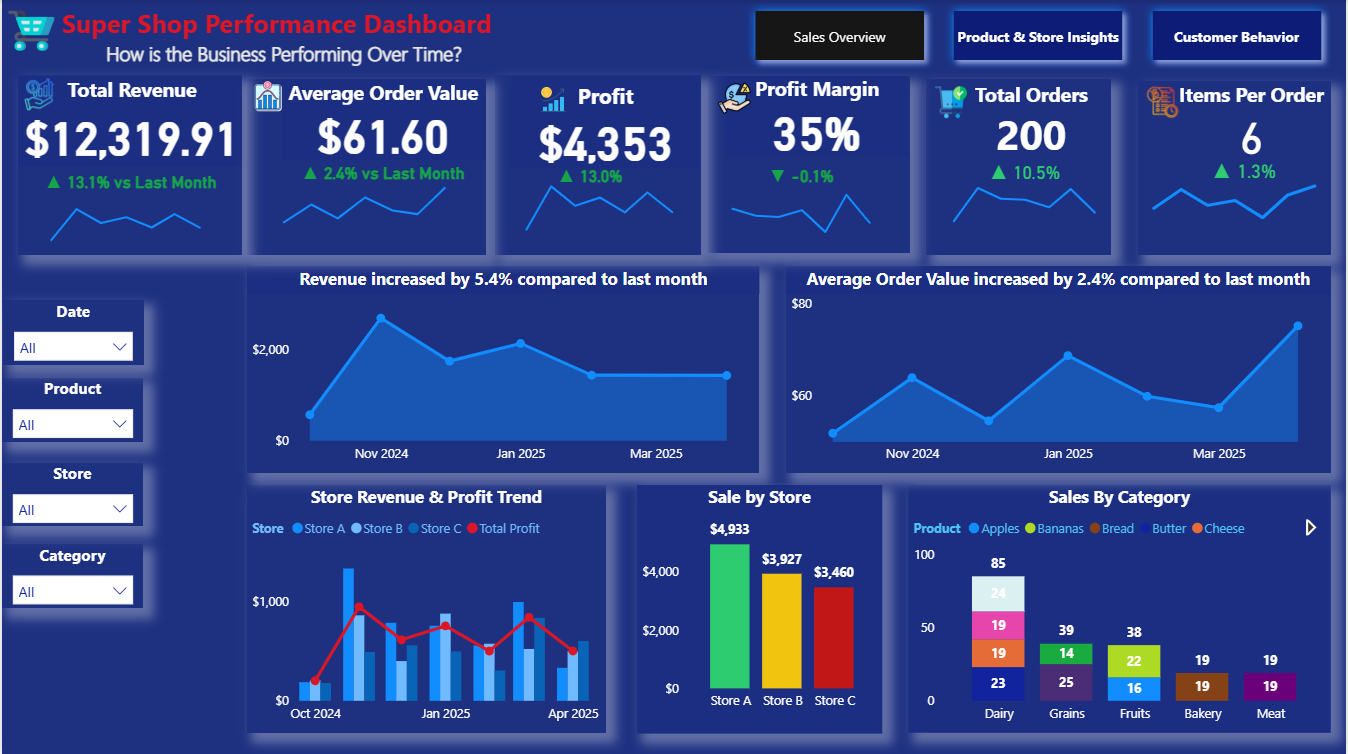

What the dashboard file says about the page in this screenshot:
{"tool":"powerbi","page":{"name":" Sales Overview","canvas":[1280,720],"ordinal":0},"visuals":[{"type":"textbox","title":"Super Shop Performance Dashboard","box":[1.2,1.2,534.5,67.9],"z":0},{"type":"lineChart","fields":{"Y":["Sum(Sheet1.Total Sale)"],"Category":["Date Table.Year-Month"]},"box":[233.3,253.6,488.1,196.4],"z":1000},{"type":"columnChart","title":"Sales By Category","fields":{"Category":["Sheet1.Category"],"Y":["CountNonNull(Sheet1.Product)"],"Series":["Sheet1.Product"]},"box":[863.1,461.9,402.4,235.7],"z":2000},{"type":"slicer","title":"Store","fields":{"Values":["Sales.Store"]},"box":[0,440.5,134.5,60.7],"z":3000},{"type":"slicer","title":"Product","fields":{"Values":["Sales.Product"]},"box":[0,359.5,134.5,61.9],"z":4000},{"type":"slicer","title":"Date","fields":{"Values":["Sales.Date"]},"box":[1.2,285.7,133.3,61.9],"z":5000},{"type":"slicer","title":"Category","fields":{"Values":["Sales.Category"]},"box":[0,517.9,134.5,61.9],"z":6000},{"type":"card","title":"Total Revenue","fields":{"Values":["Sales.Total Revenue"]},"box":[15.5,72.6,216.7,85.7],"z":7000},{"type":"card","fields":{"Values":["Sales.Revenue Growth Display"]},"box":[1.3,161.2,243.2,26.9],"z":8000},{"type":"lineChart","fields":{"Category":["Date Table.Year-Month"],"Y":["Sales.Total Revenue"]},"box":[32.1,181,171.4,61.9],"z":9000},{"type":"card","title":"Average Order Value","fields":{"Values":["Sales.Avg Order Value"]},"box":[265.5,75,195.2,77.4],"z":10000},{"type":"card","fields":{"Values":["Sales.AOV Growth Display"]},"box":[265.5,146.4,195.2,42.9],"z":11000},{"type":"lineChart","fields":{"Y":["Sales.Avg Order Value"],"Category":["Date Table.Year-Month"]},"box":[253.6,158.3,183.3,61.9],"z":12000},{"type":"card","title":"Total Orders","fields":{"Values":["Sales.Total Orders"]},"box":[888.1,77.4,184.5,76.2],"z":13000},{"type":"shape","box":[15.5,71.4,213.1,171.4],"z":14000},{"type":"card","fields":{"Values":["Sales.Orders Indicator"]},"box":[891.7,146.4,164.3,36.9],"z":15000},{"type":"lineChart","fields":{"Y":["Sales.Total Orders"],"Category":["Date Table.Year-Month"]},"box":[891.7,157.1,164.3,60.7],"z":16000},{"type":"shape","box":[879.8,75,176.2,167.9],"z":17000},{"type":"card","title":"Items Per Order","fields":{"Values":["Sales.Items per Order"]},"box":[1114.3,77.4,151.2,76.2],"z":18000},{"type":"shape","box":[233.3,75,227.4,167.9],"z":19000},{"type":"shape","box":[1082.1,77.4,183.3,165.5],"z":20000},{"type":"lineChart","fields":{"Category":["Date Table.Year-Month"],"Y":["Sales.Avg Order Value"]},"box":[746.4,253.6,519.1,196.4],"z":21000},{"type":"image","box":[15.5,69,40.5,41.7],"z":22000},{"type":"image","box":[233.3,71.4,40.5,40.5],"z":23000},{"type":"image","box":[879.8,77.4,47.6,40.5],"z":24000},{"type":"image","box":[0,1.2,56,56],"z":25000},{"type":"card","fields":{"Values":["Sales.Items per Order Indicator"]},"box":[1104.8,145.2,156,36.9],"z":26000},{"type":"lineChart","fields":{"Y":["Sales.Items per Order"],"Category":["Date Table.Year-Month"]},"box":[1082.1,157.1,183.3,70.2],"z":27000},{"type":"image","box":[1082.1,77.4,46.4,40.5],"z":28000},{"type":"shape","box":[469.1,71.4,196.4,171.4],"z":29000},{"type":"card","title":"Profit","fields":{"Values":["Sales.Total Profit"]},"box":[484.5,72.6,181,88.1],"z":30000},{"type":"card","fields":{"Values":["Sales.Profit Indicator"]},"box":[502.4,150,115.5,42.9],"z":31000},{"type":"lineChart","fields":{"Y":["Sales.Total Profit"],"Category":["Date Table.Year-Month"]},"box":[484.5,160.7,169,64.3],"z":32000},{"type":"card","title":"Profit Margin","fields":{"Values":["Sales.Profit Margin"]},"box":[689.3,71.4,173.8,78.6],"z":33000},{"type":"card","fields":{"Values":["Sales.Profit Margin Indicator"]},"box":[681,153.6,160.7,35.7],"z":34000},{"type":"lineChart","fields":{"Y":["Sales.Profit Margin"],"Category":["Date Table.Year-Month"]},"box":[681,164.3,160.7,76.2],"z":35000},{"type":"shape","box":[672.6,72.6,191.7,167.9],"z":36000},{"type":"image","box":[502.4,77.4,45.2,34.5],"z":37000},{"type":"image","box":[672.6,72.6,48.8,41.7],"z":38000},{"type":"lineClusteredColumnComboChart","title":"Store Revenue & Profit Trend","fields":{"Category":["Date Table.Year-Month"],"Y":["Sales.Total Revenue"],"Series":["Sales.Store"],"Y2":["Sales.Total Profit"]},"box":[233.3,461.9,341.7,235.7],"z":39000},{"type":"clusteredColumnChart","title":" Sale by Store","fields":{"Category":["Sheet1.Store"],"Y":["Sum(Sheet1.Total Sale)"]},"box":[604.8,461.9,233.3,236.9],"z":40000},{"type":"pageNavigator","box":[708.3,1.2,557.1,65.5],"z":41000}]}

Visuals, with their boxes in screenshot pixels (x1, y1, x2, y2), scaled from the page's 1280x720 canvas onto the 1348x754 screenshot:
"Super Shop Performance Dashboard" textbox: detection(1, 1, 564, 72)
lineChart - Sum(Sheet1.Total Sale) x Date Table.Year-Month: detection(246, 266, 760, 471)
"Sales By Category" columnChart: detection(909, 484, 1333, 731)
"Store" slicer: detection(0, 461, 142, 525)
"Product" slicer: detection(0, 376, 142, 441)
"Date" slicer: detection(1, 299, 142, 364)
"Category" slicer: detection(0, 542, 142, 607)
"Total Revenue" card: detection(16, 76, 245, 166)
card - Sales.Revenue Growth Display: detection(1, 169, 257, 197)
lineChart - Date Table.Year-Month x Sales.Total Revenue: detection(34, 190, 214, 254)
"Average Order Value" card: detection(280, 79, 485, 160)
card - Sales.AOV Growth Display: detection(280, 153, 485, 198)
lineChart - Sales.Avg Order Value x Date Table.Year-Month: detection(267, 166, 460, 231)
"Total Orders" card: detection(935, 81, 1130, 161)
shape: detection(16, 75, 241, 254)
card - Sales.Orders Indicator: detection(939, 153, 1112, 192)
lineChart - Sales.Total Orders x Date Table.Year-Month: detection(939, 165, 1112, 228)
shape: detection(927, 79, 1112, 254)
"Items Per Order" card: detection(1173, 81, 1333, 161)
shape: detection(246, 79, 485, 254)
shape: detection(1140, 81, 1333, 254)
lineChart - Date Table.Year-Month x Sales.Avg Order Value: detection(786, 266, 1333, 471)
image: detection(16, 72, 59, 116)
image: detection(246, 75, 288, 117)
image: detection(927, 81, 977, 123)
image: detection(0, 1, 59, 60)
card - Sales.Items per Order Indicator: detection(1163, 152, 1328, 191)
lineChart - Sales.Items per Order x Date Table.Year-Month: detection(1140, 165, 1333, 238)
image: detection(1140, 81, 1188, 123)
shape: detection(494, 75, 701, 254)
"Profit" card: detection(510, 76, 701, 168)
card - Sales.Profit Indicator: detection(529, 157, 651, 202)
lineChart - Sales.Total Profit x Date Table.Year-Month: detection(510, 168, 688, 236)
"Profit Margin" card: detection(726, 75, 909, 157)
card - Sales.Profit Margin Indicator: detection(717, 161, 886, 198)
lineChart - Sales.Profit Margin x Date Table.Year-Month: detection(717, 172, 886, 252)
shape: detection(708, 76, 910, 252)
image: detection(529, 81, 577, 117)
image: detection(708, 76, 760, 120)
"Store Revenue & Profit Trend" lineClusteredColumnComboChart: detection(246, 484, 606, 731)
" Sale by Store" clusteredColumnChart: detection(637, 484, 883, 732)
pageNavigator: detection(746, 1, 1333, 70)
